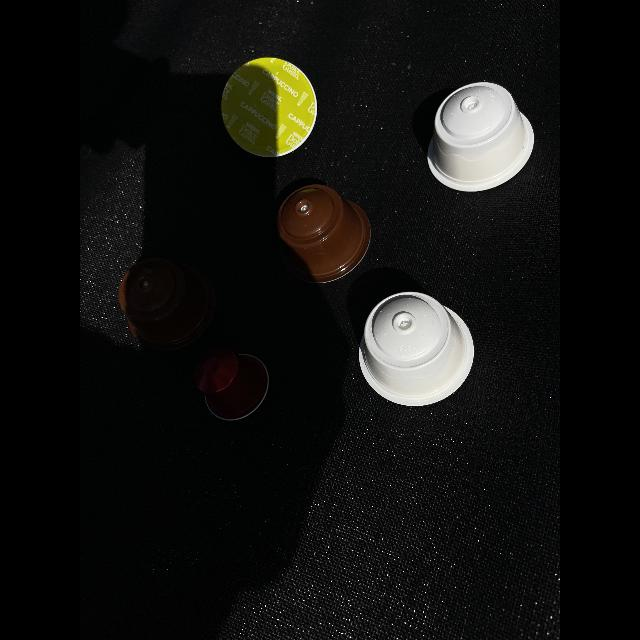intact_capsule: (354, 280, 486, 412), (420, 75, 542, 205), (218, 55, 332, 161), (271, 180, 377, 294), (189, 346, 275, 434)
